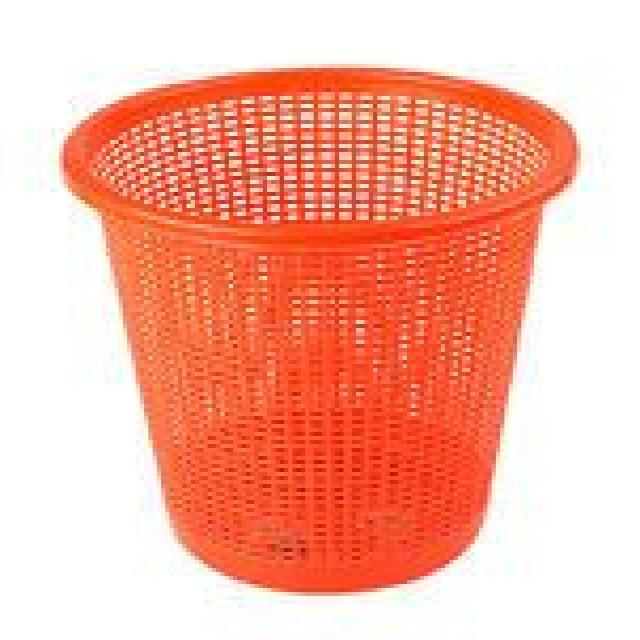Dustbin: (53, 58, 586, 598)
